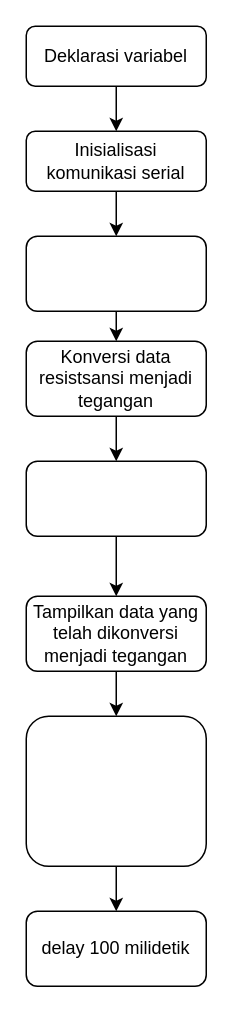
Image size: 233x1013. Some labels were removed from this diagram. The centre of each missing label's shape, as x and y in pixels:
Baca nilai analog dari potensiometer: [115,273]
Tampilkan teks " V" dengan menambahkan line baru disetelahnya: [115,790]
Tampilkan teks "Tegangan: " di kolom serial monitor: [115,498]
